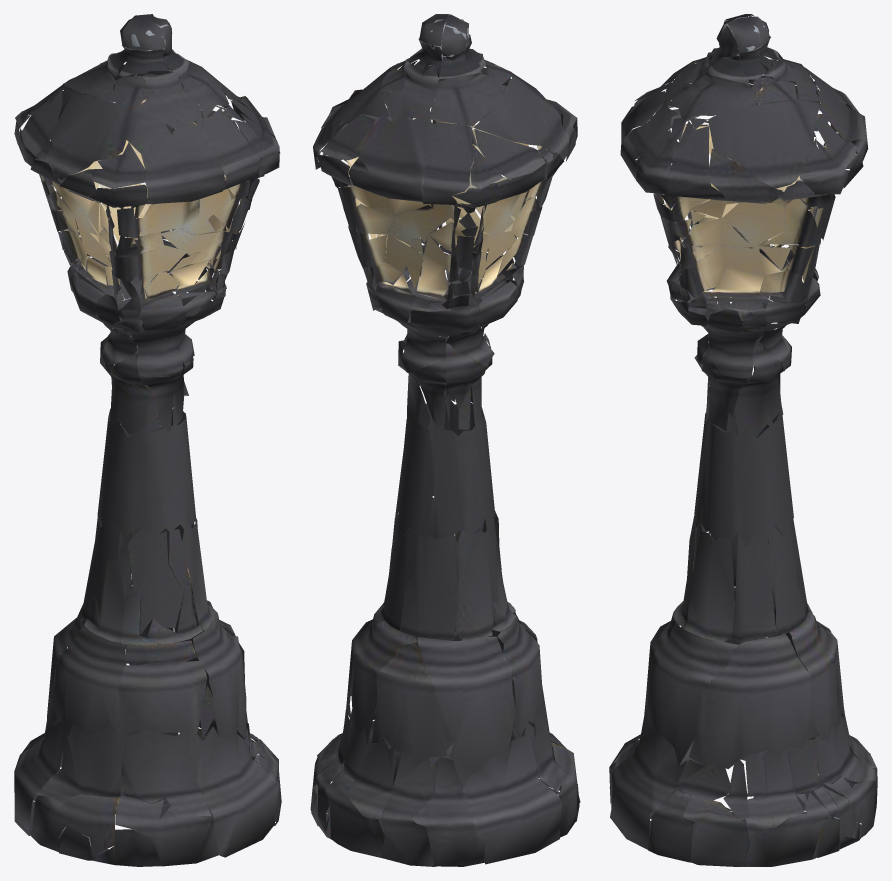
Rendered from lamp.glb.
3 renders of one model, left to right at view 1: azimuth 30°, elevation 25°; view 2: azimuth 150°, elevation 25°; view 3: azimuth 270°, elevation 25°, orthographic.
Visible parts, largest first — view 1: Mesh_0; view 2: Mesh_0; view 3: Mesh_0.
Part boxes in pixels (x1=…): Mesh_0: x1=14, y1=14, x2=281, y2=866; Mesh_0: x1=310, y1=14, x2=580, y2=866; Mesh_0: x1=609, y1=14, x2=877, y2=866.
Size of the model in its own units: 0.5822 by 1.91 by 0.5828.
Materials: 1 (1 with a texture image).
